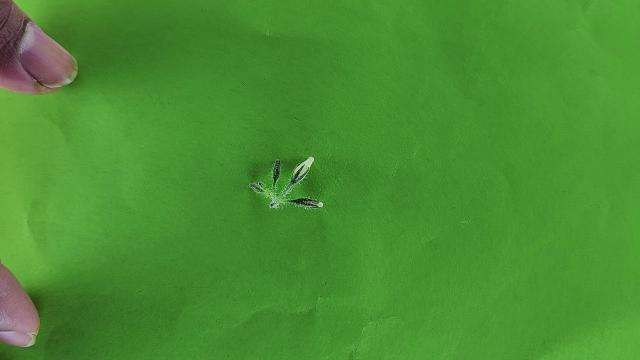Flower Bud: (288, 156, 315, 189), (286, 197, 324, 210), (272, 159, 281, 187), (249, 182, 264, 192)
